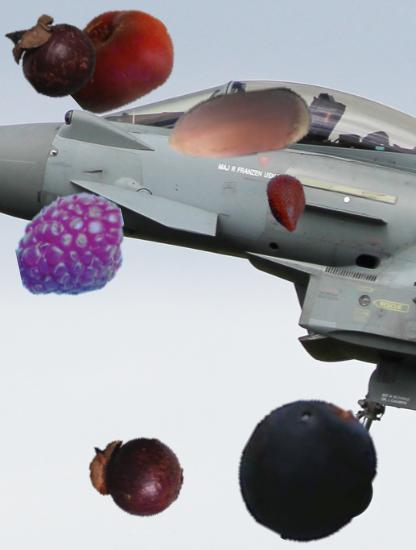Grape: (234, 396, 380, 542)
Guava: (26, 28, 79, 81)
Hazelnut: (165, 50, 314, 199)
Mangostan: (88, 428, 185, 525), (7, 7, 101, 101)
Nectarine: (59, 2, 177, 120)
Raspberry: (16, 190, 128, 302)
Salak: (257, 173, 319, 235)
